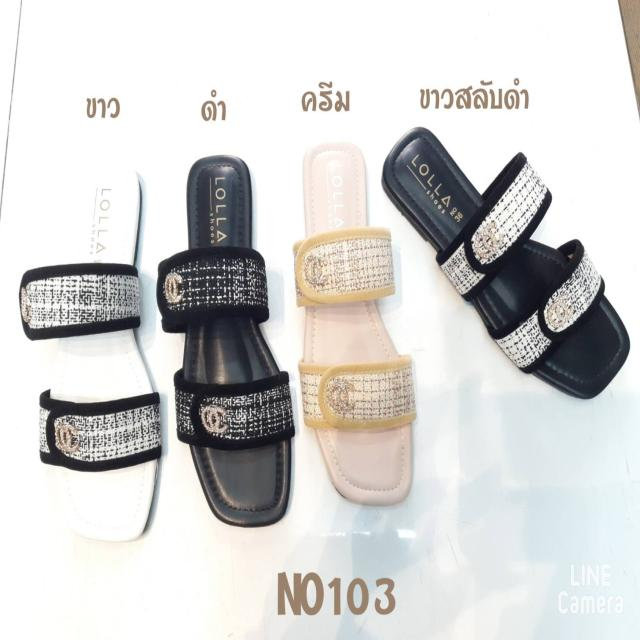black: (171, 154, 295, 523)
cream: (301, 148, 403, 511)
white: (19, 163, 162, 547)
white-black: (410, 118, 626, 398)
